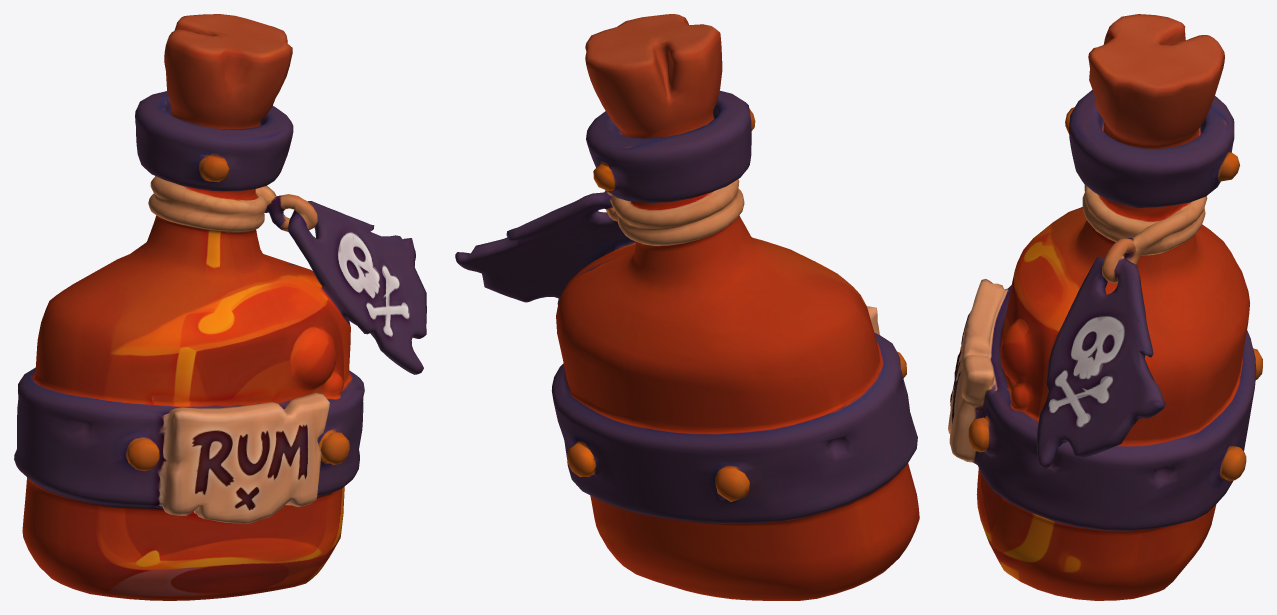
Rendered from botella3d.fbx.
3 views of the same model, side by side, from view 1: azimuth 30°, elevation 25°; view 2: azimuth 150°, elevation 25°; view 3: azimuth 270°, elevation 25° (orthographic). The views are drawn at different scales.
Parts seen in each view (by area): view 1: tripo_node_46079603; view 2: tripo_node_46079603; view 3: tripo_node_46079603.
Part boxes in pixels (bbox=[...]): tripo_node_46079603: bbox=[14, 14, 426, 600]; tripo_node_46079603: bbox=[455, 14, 919, 600]; tripo_node_46079603: bbox=[948, 14, 1262, 600].
Bounding box in the file's own units: 0.7902 × 0.9785 × 0.5131.
